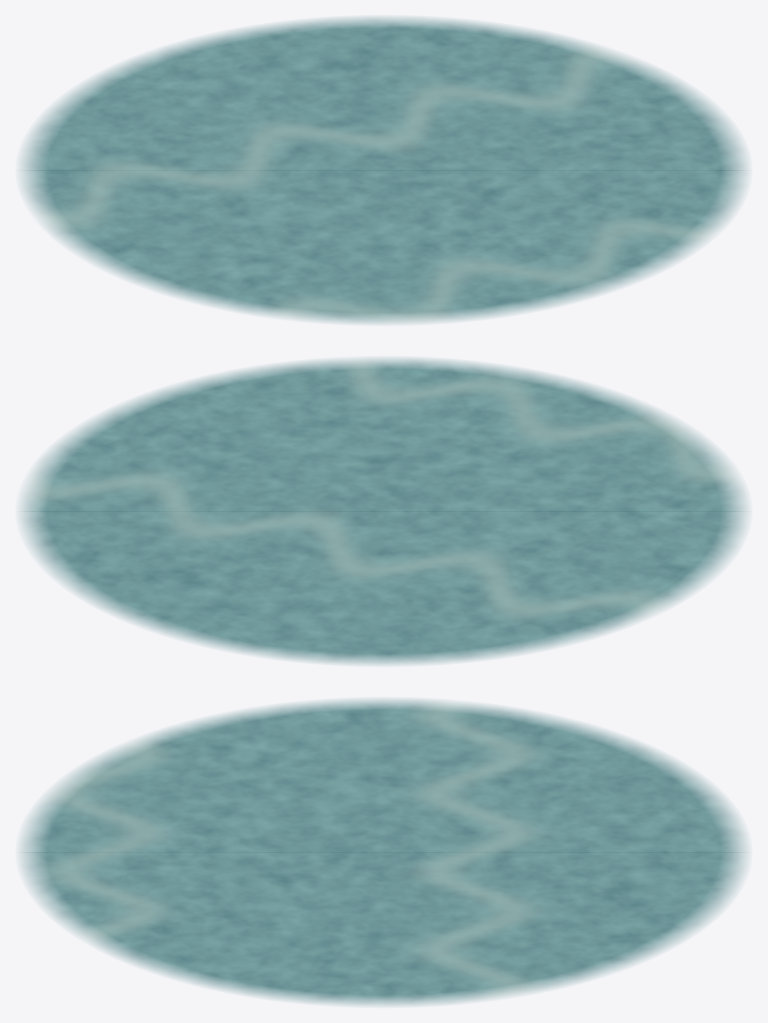
The model's file is waterfall_pond.glb.
3 views of the same model, one above another, from view 1: azimuth 30°, elevation 25°; view 2: azimuth 150°, elevation 25°; view 3: azimuth 270°, elevation 25° (orthographic).
Parts seen in each view (by area): view 1: waterfall_pond_Mesh; view 2: waterfall_pond_Mesh; view 3: waterfall_pond_Mesh.
Boxes of the visible parts, box(x1,y1,x2,y2) form: waterfall_pond_Mesh: box(19, 17, 748, 323); waterfall_pond_Mesh: box(19, 358, 748, 664); waterfall_pond_Mesh: box(19, 699, 748, 1005).
Size of the model in its own units: 11.6 by 0 by 11.6.
Materials: 1 (1 with a texture image).
